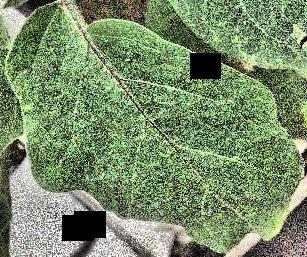HEALTHY: (0, 1, 307, 257)
